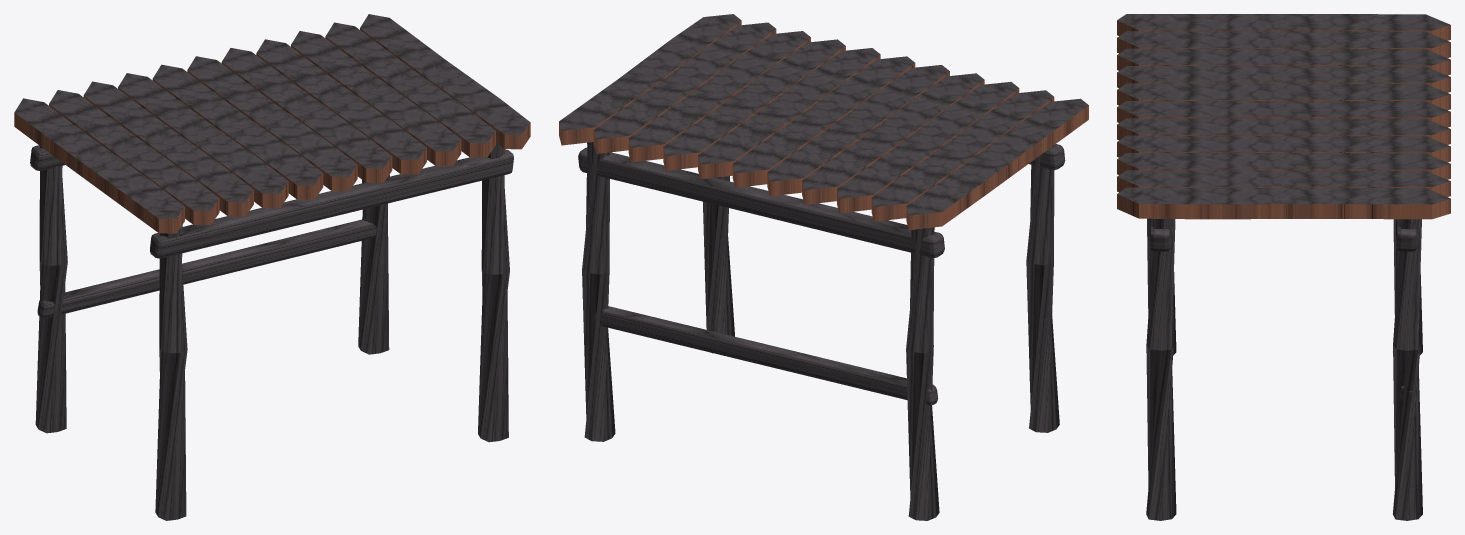
File: Wayside_Shelter_Barren.glb
3 renders of one model, left to right at view 1: azimuth 30°, elevation 25°; view 2: azimuth 150°, elevation 25°; view 3: azimuth 270°, elevation 25°, orthographic. The views are drawn at different scales.
Parts seen in each view (by area): view 1: Structure; view 2: Structure; view 3: Structure.
Part boxes in pixels (x1=…): Structure: x1=14, y1=14, x2=530, y2=520; Structure: x1=559, y1=14, x2=1088, y2=520; Structure: x1=1117, y1=14, x2=1450, y2=520.
Size of the model in its own units: 3.29 by 2.61 by 2.44.
Materials: 2 (2 with a texture image).
